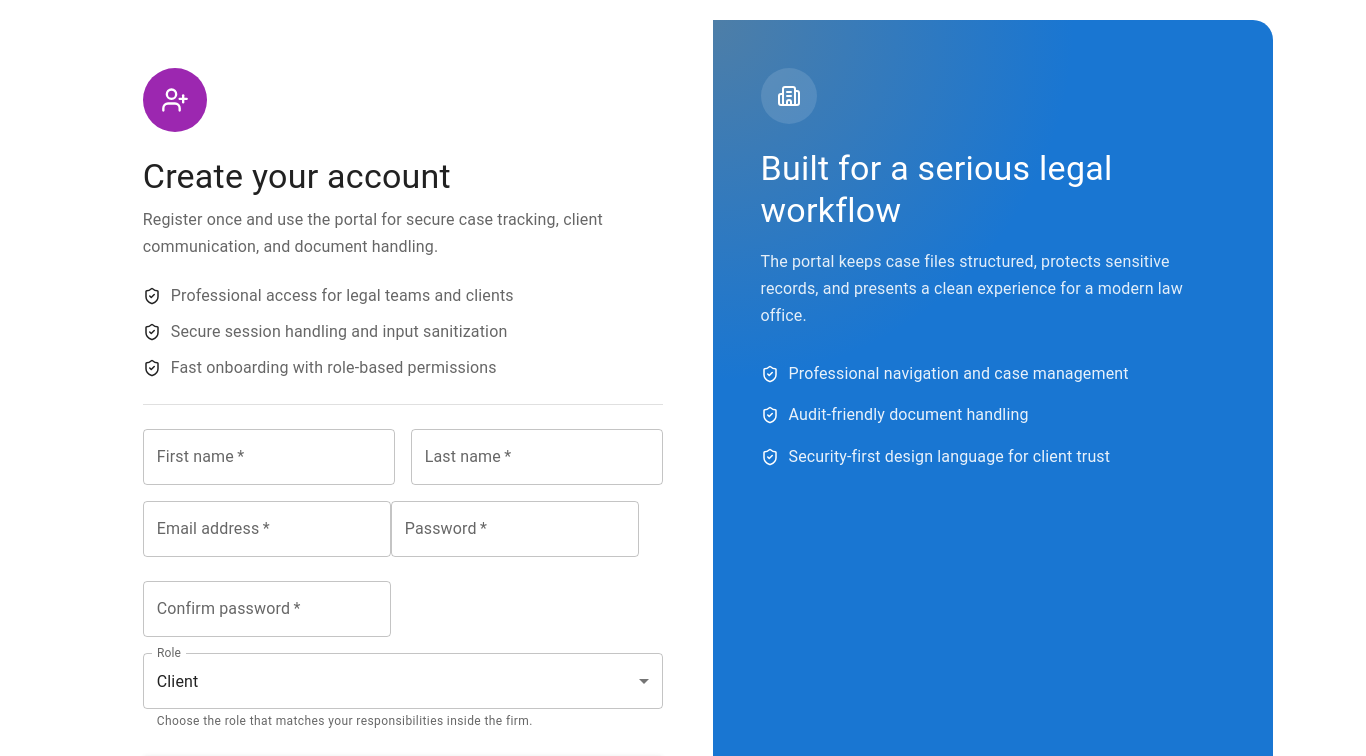
Test: Signup component — password mismatch validation › shows mismatch error when passwords do not match
The image size is (1366, 756).
Type "Alice" into the field labelled "First name *" at [269, 457], box [143,429,395,485]
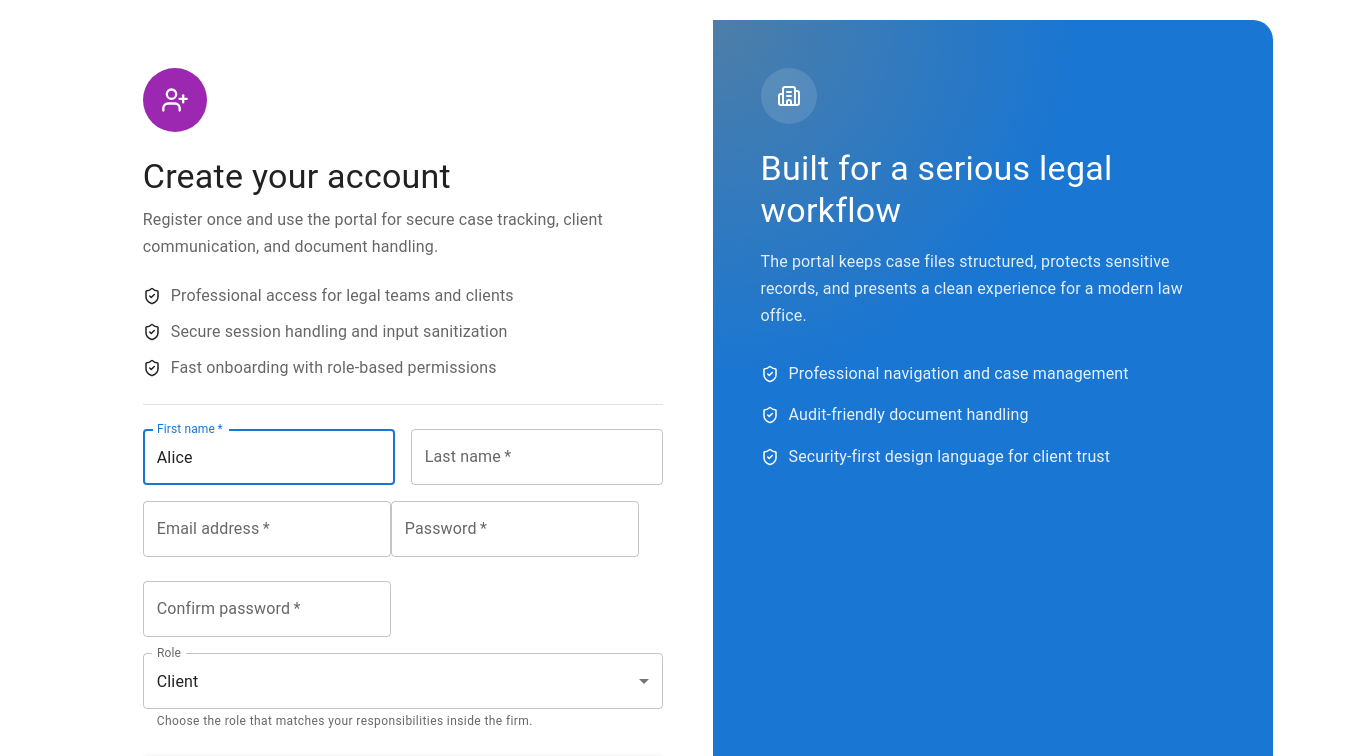
Type "Smith" into the field labelled "Last name *" at [537, 457], box [411,429,663,485]
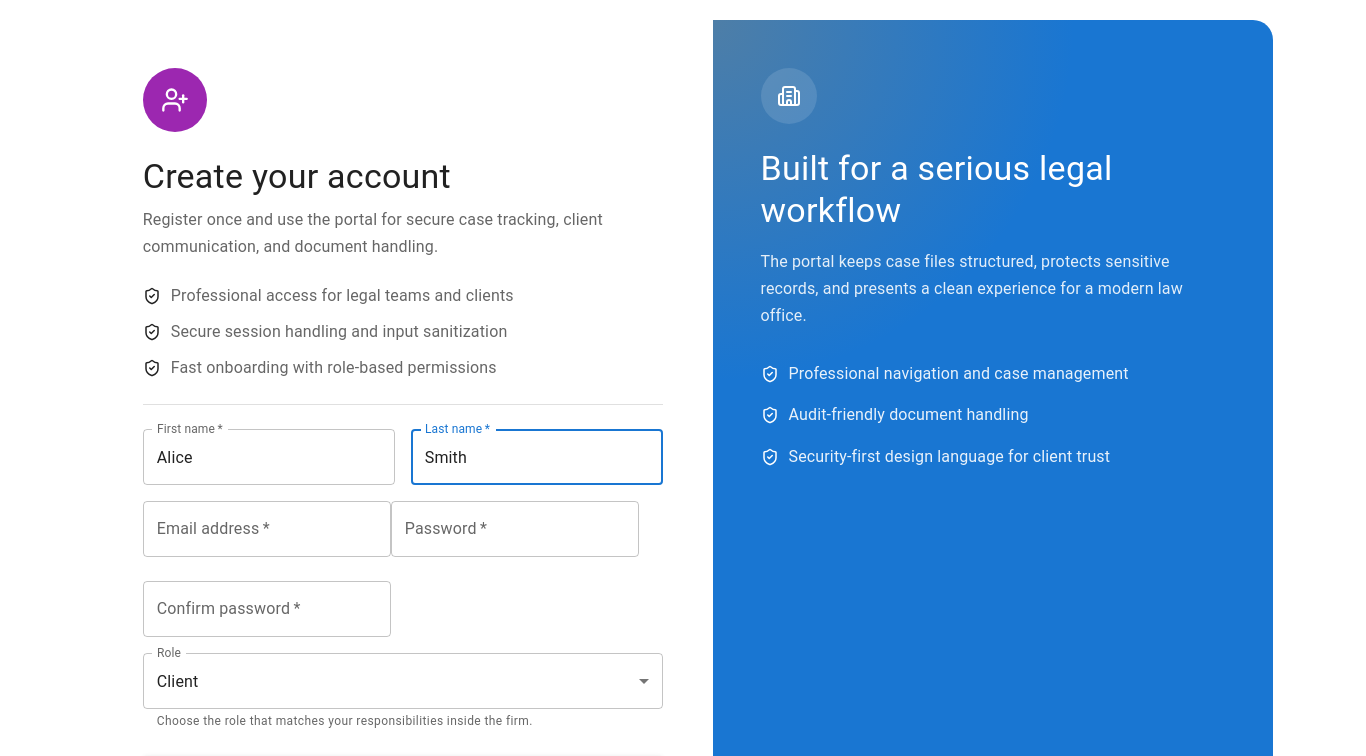
Type "alice@firm.com" into the field labelled "Email address *" at [267, 529], box [143,501,391,557]
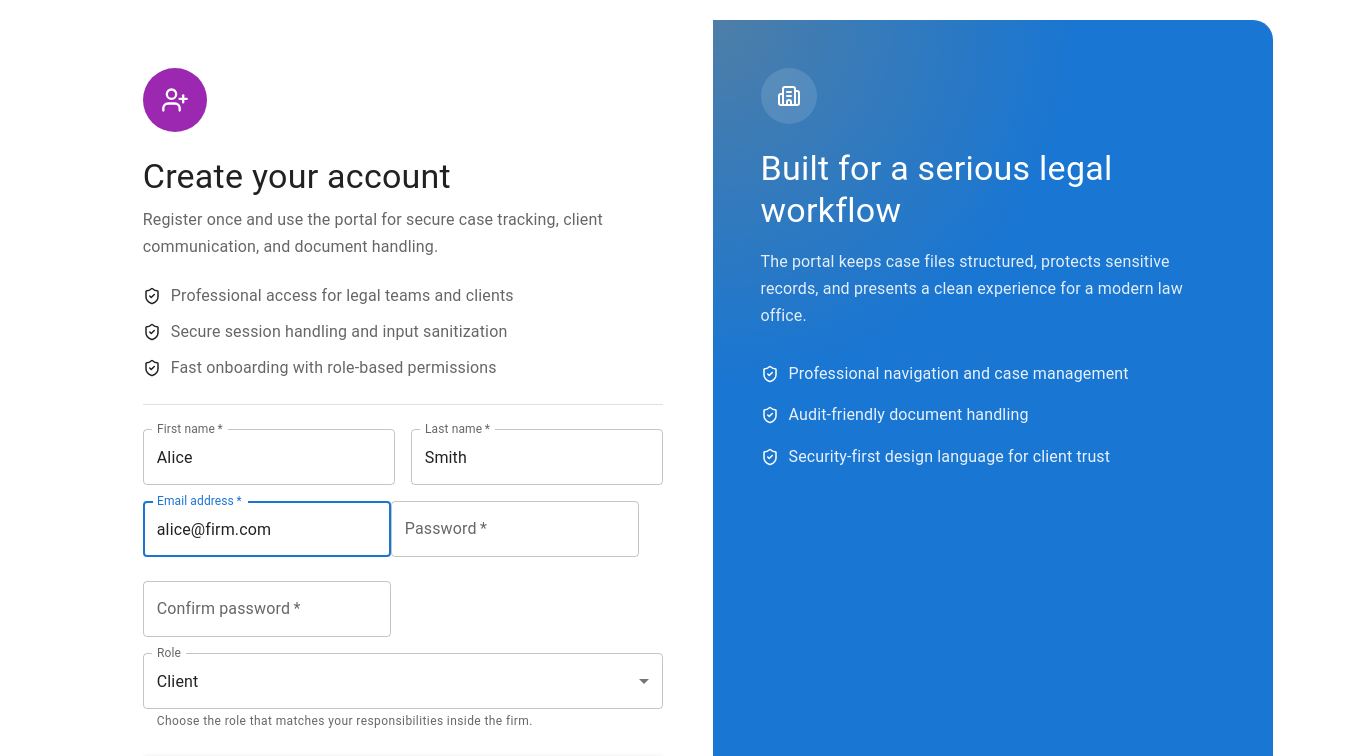
Type "Secure@Pass1!" into the password field labelled "Password *" at [515, 529], box [391,501,639,557]
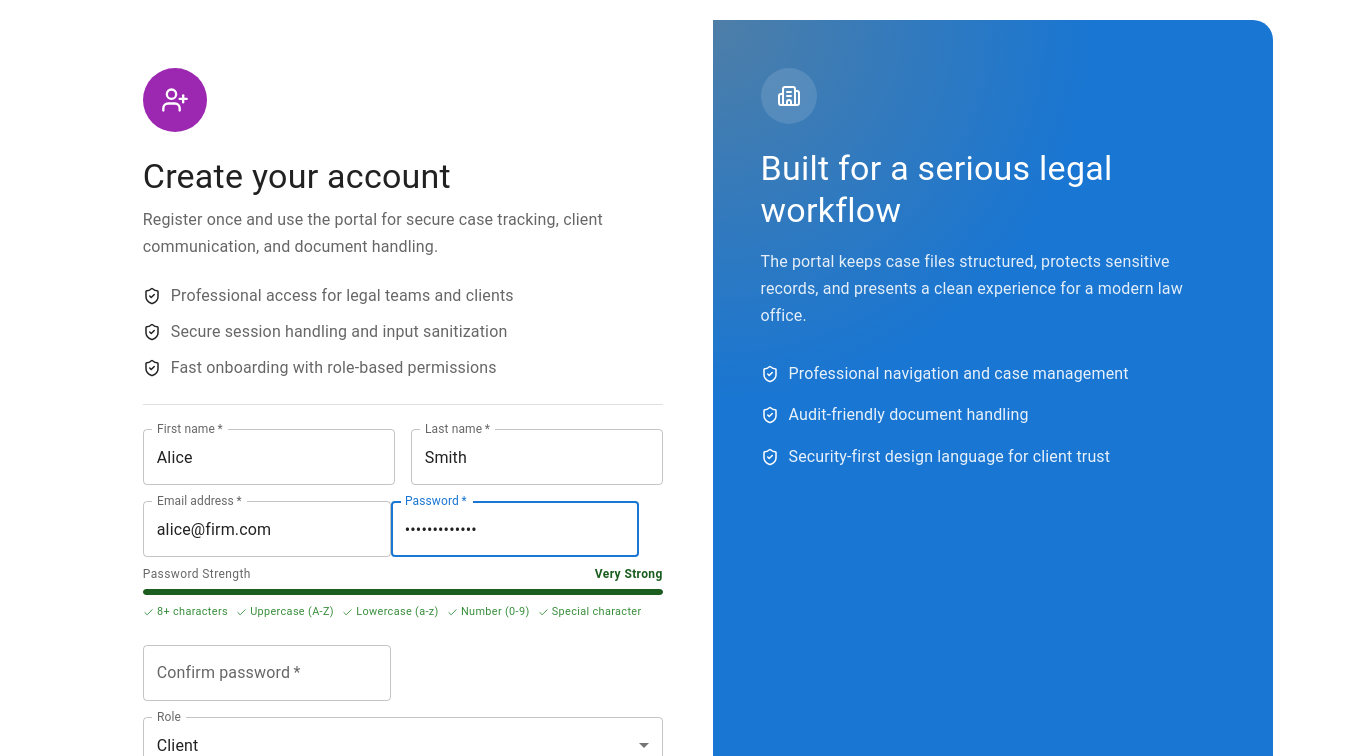
Type "DifferentPass@1!" into the password field labelled "Confirm password *" at [267, 673], box [143,645,391,701]
(page scrolled)
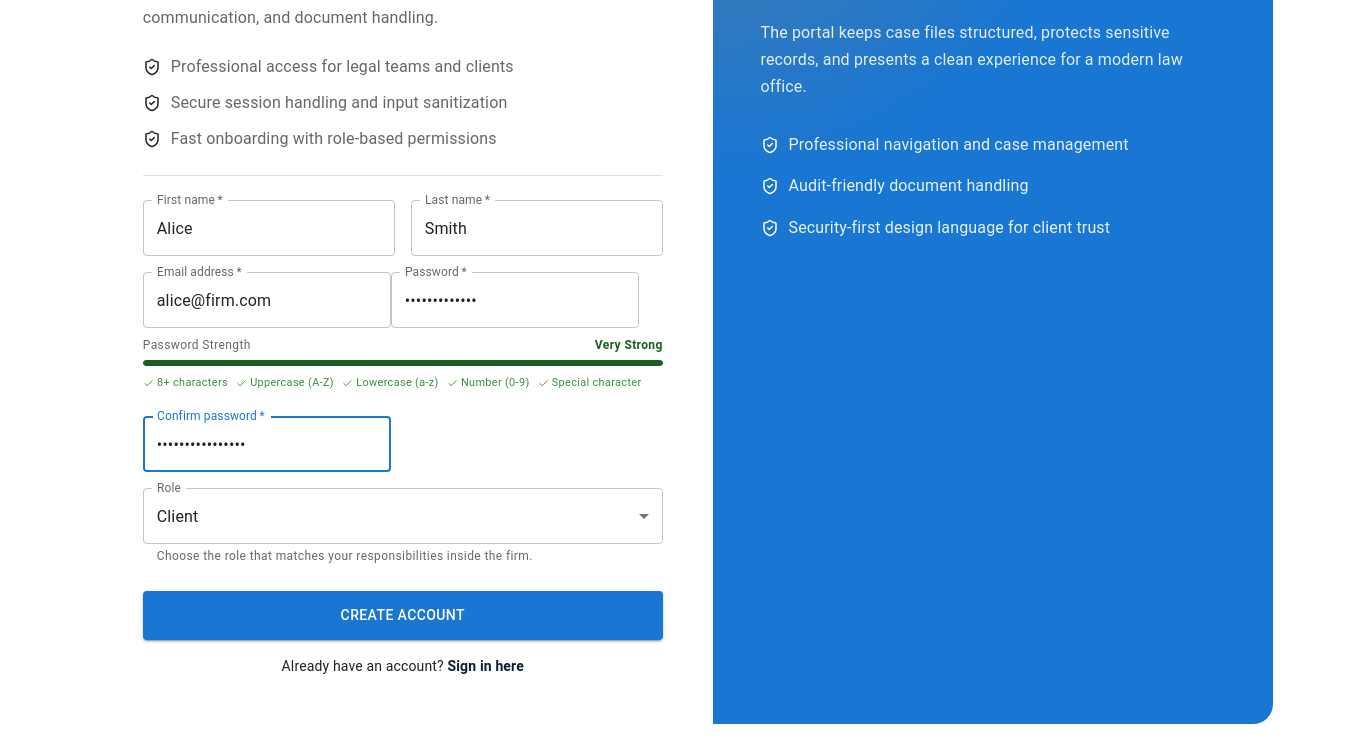
Submit the form from the button "Create account", box [143,591,663,640]
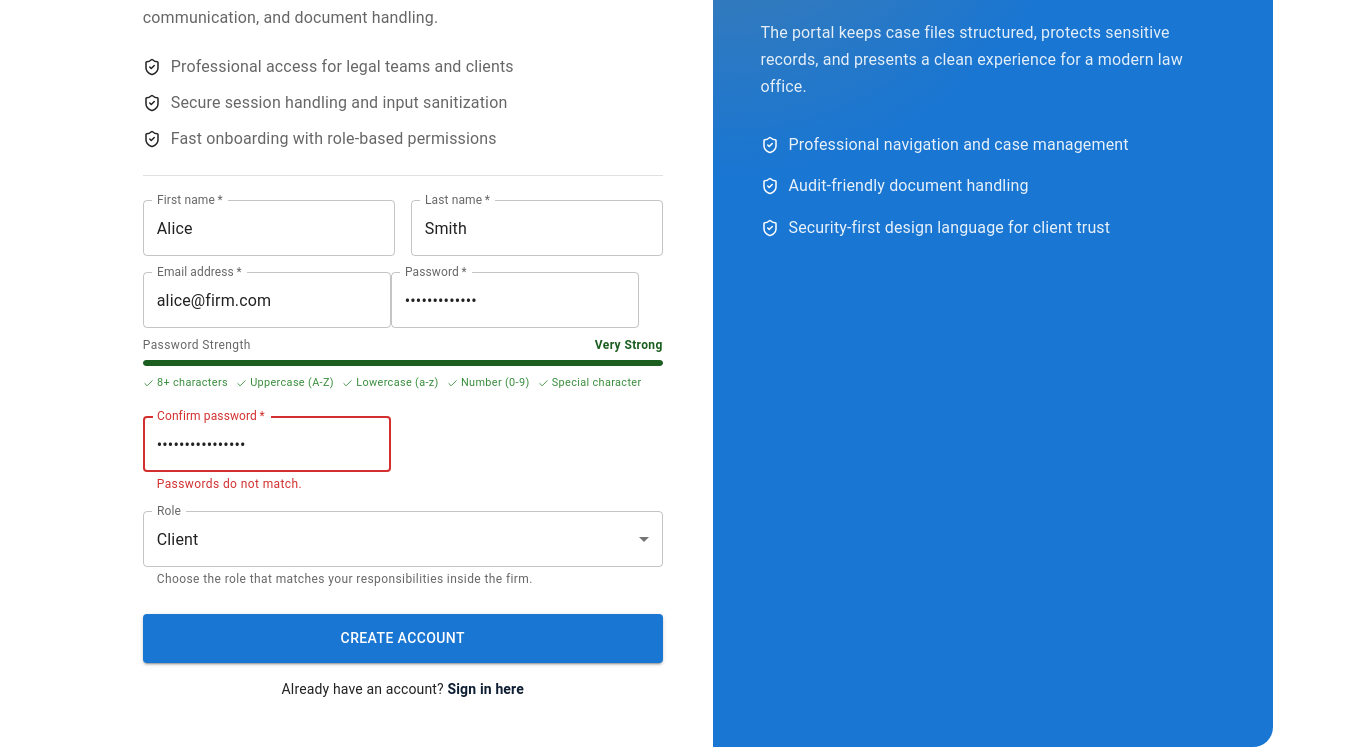
Expected: the text "Passwords do not match." is shown, [157,477,302,491]
